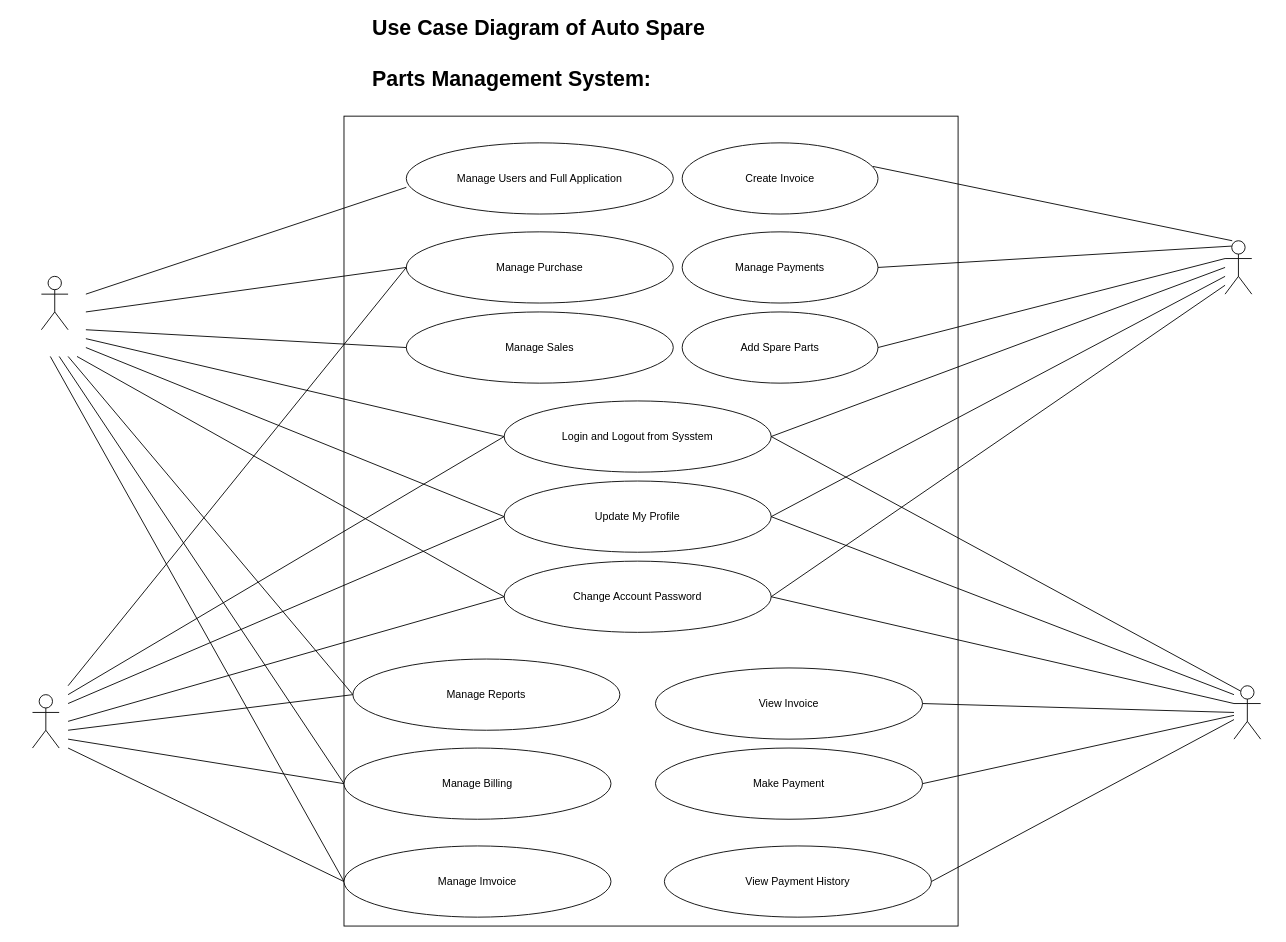
This 1286x942 diagram has some shape labels left out. Here are the shapes that lost their labels. From the top down, the centre of each, then its label:
point 1238,267: Cashlers
point 54,302: Super Admin
point 45,721: System User
point 1247,712: Customer
